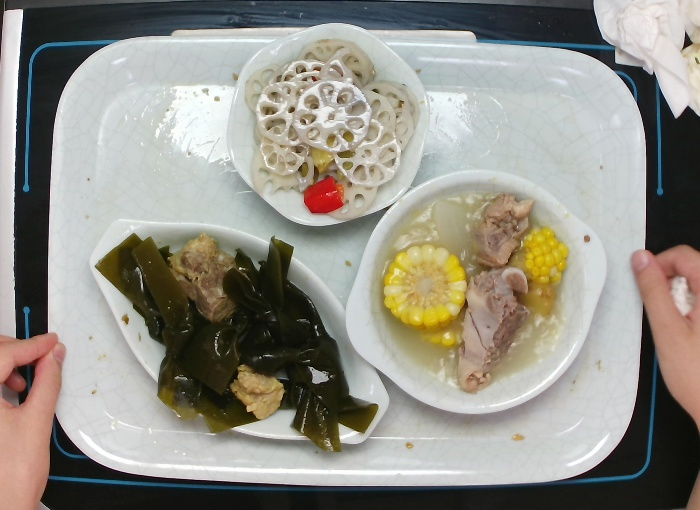JYsf-Shuang_Er_Wan: (344, 167, 608, 419)
JYsf-Yu_Pan: (86, 213, 389, 453)
WCQzf-Hua_Duo_Wan: (223, 19, 432, 231)
